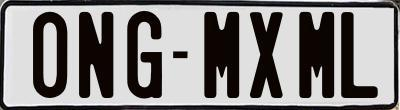0: (33, 11, 73, 98)
G: (126, 10, 166, 98)
L: (339, 11, 378, 98)
M: (201, 9, 236, 100), (296, 10, 333, 96)
N: (78, 9, 114, 99)
X: (250, 10, 284, 100)
